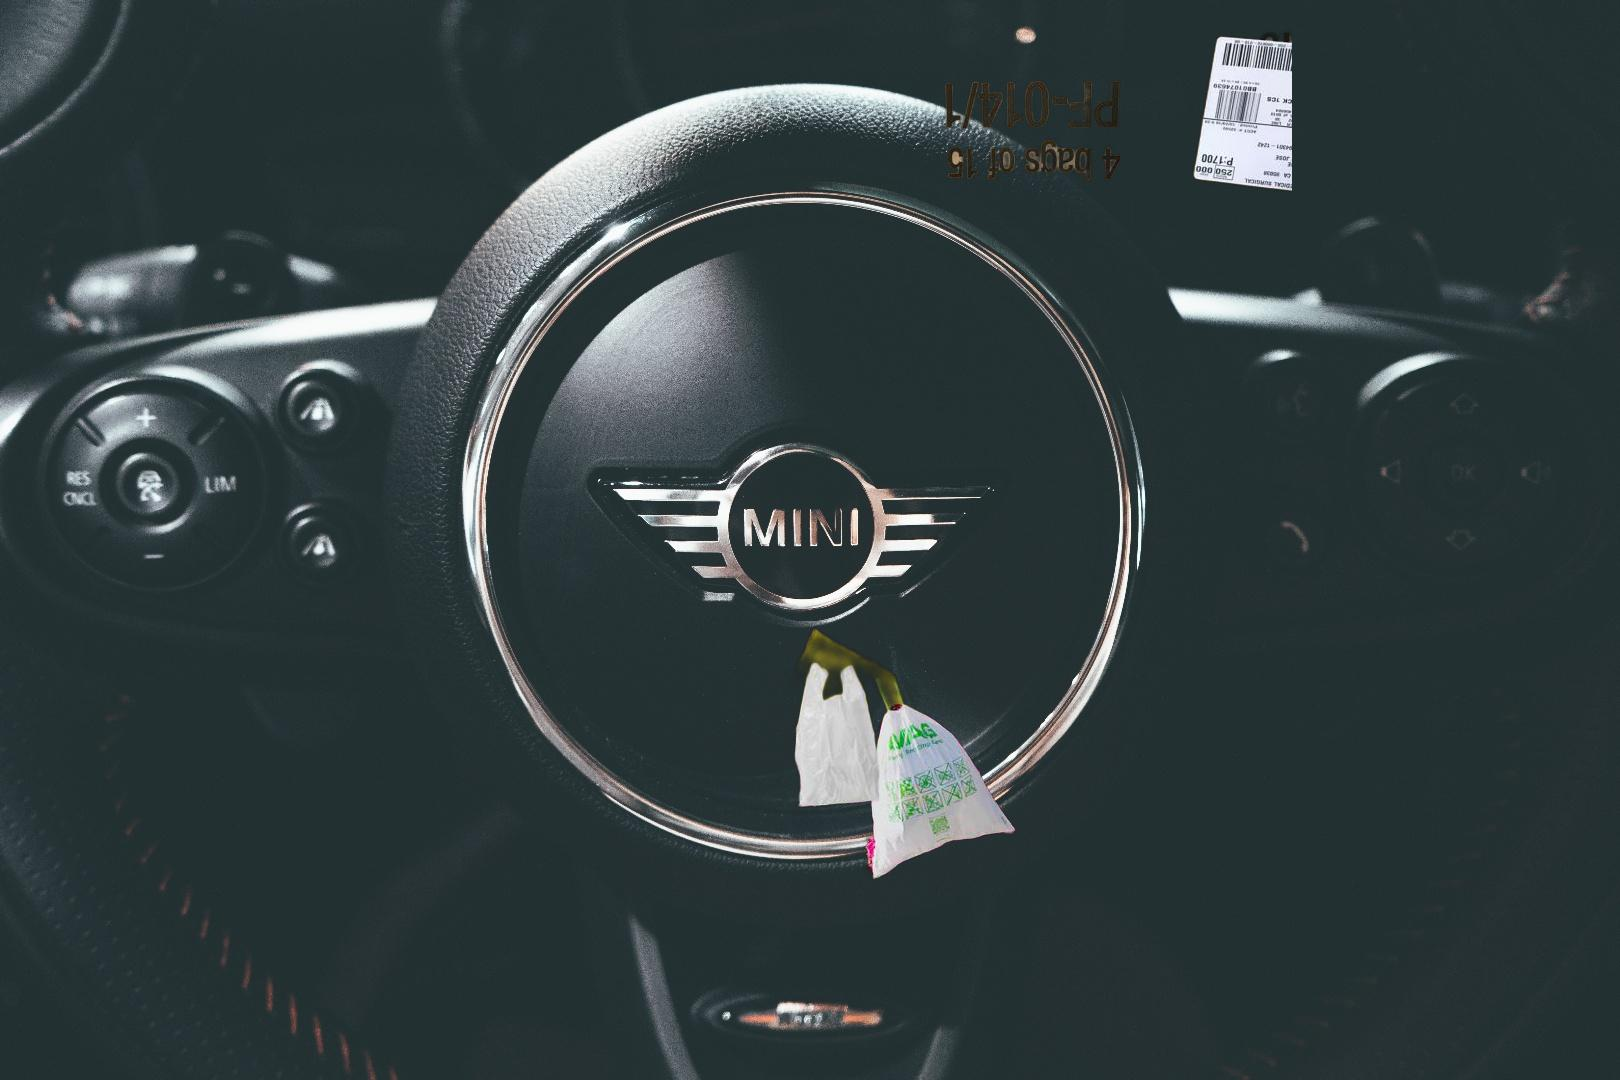plastic-bag: (775, 622, 1017, 884)
trashbox-cardboard: (941, 23, 1292, 407)
